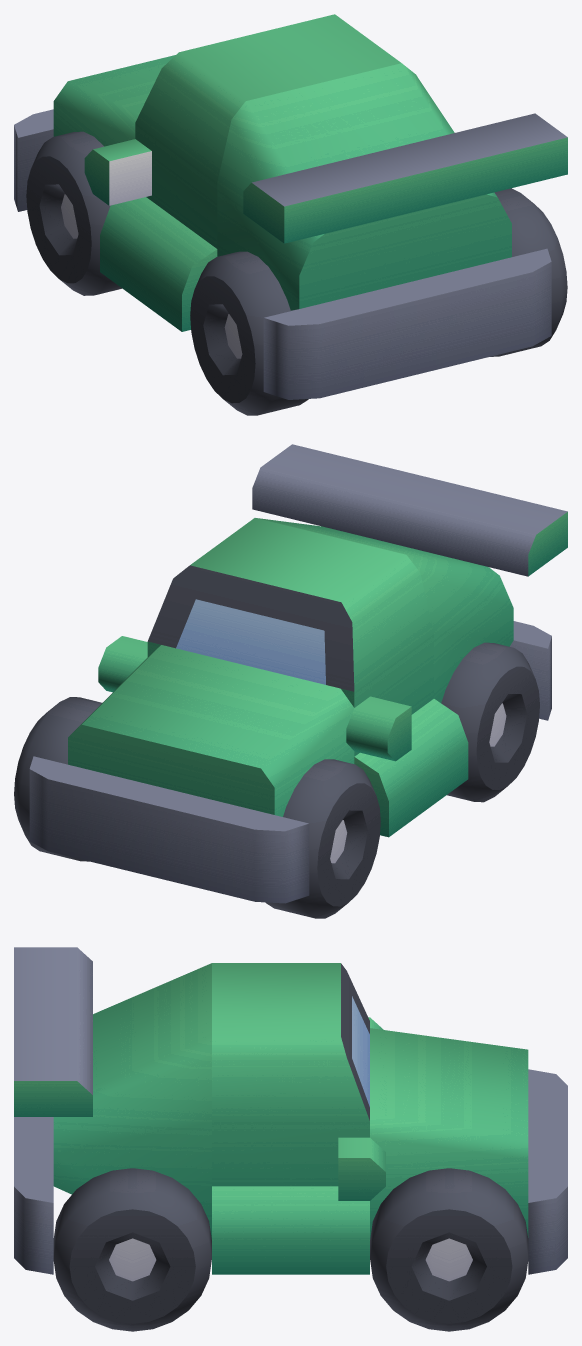
The model's file is vehicle-racer.glb.
3 renders of one model, top to bottom at view 1: azimuth 30°, elevation 25°; view 2: azimuth 150°, elevation 25°; view 3: azimuth 270°, elevation 25°, orthographic. The views are drawn at different scales.
Visible parts, largest first — view 1: vehicle-racer, wheel-bl, wheel-fl, wheel-br; view 2: vehicle-racer, wheel-bl, wheel-fl, wheel-fr; view 3: vehicle-racer, wheel-fr, wheel-br.
Boxes of the visible parts, x1=… form: vehicle-racer: x1=14, y1=14, x2=567, y2=399; wheel-bl: x1=190, y1=251, x2=308, y2=415; wheel-fl: x1=26, y1=131, x2=121, y2=295; wheel-br: x1=490, y1=188, x2=567, y2=356; vehicle-racer: x1=29, y1=444, x2=567, y2=903; wheel-bl: x1=441, y1=642, x2=539, y2=802; wheel-fl: x1=265, y1=759, x2=380, y2=918; wheel-fr: x1=14, y1=697, x2=102, y2=861; vehicle-racer: x1=14, y1=947, x2=567, y2=1274; wheel-fr: x1=370, y1=1168, x2=528, y2=1331; wheel-br: x1=53, y1=1168, x2=211, y2=1331.
Bounding box in the file's own units: 0.5625 × 0.45 × 0.875.
1 material, 1 textured.
